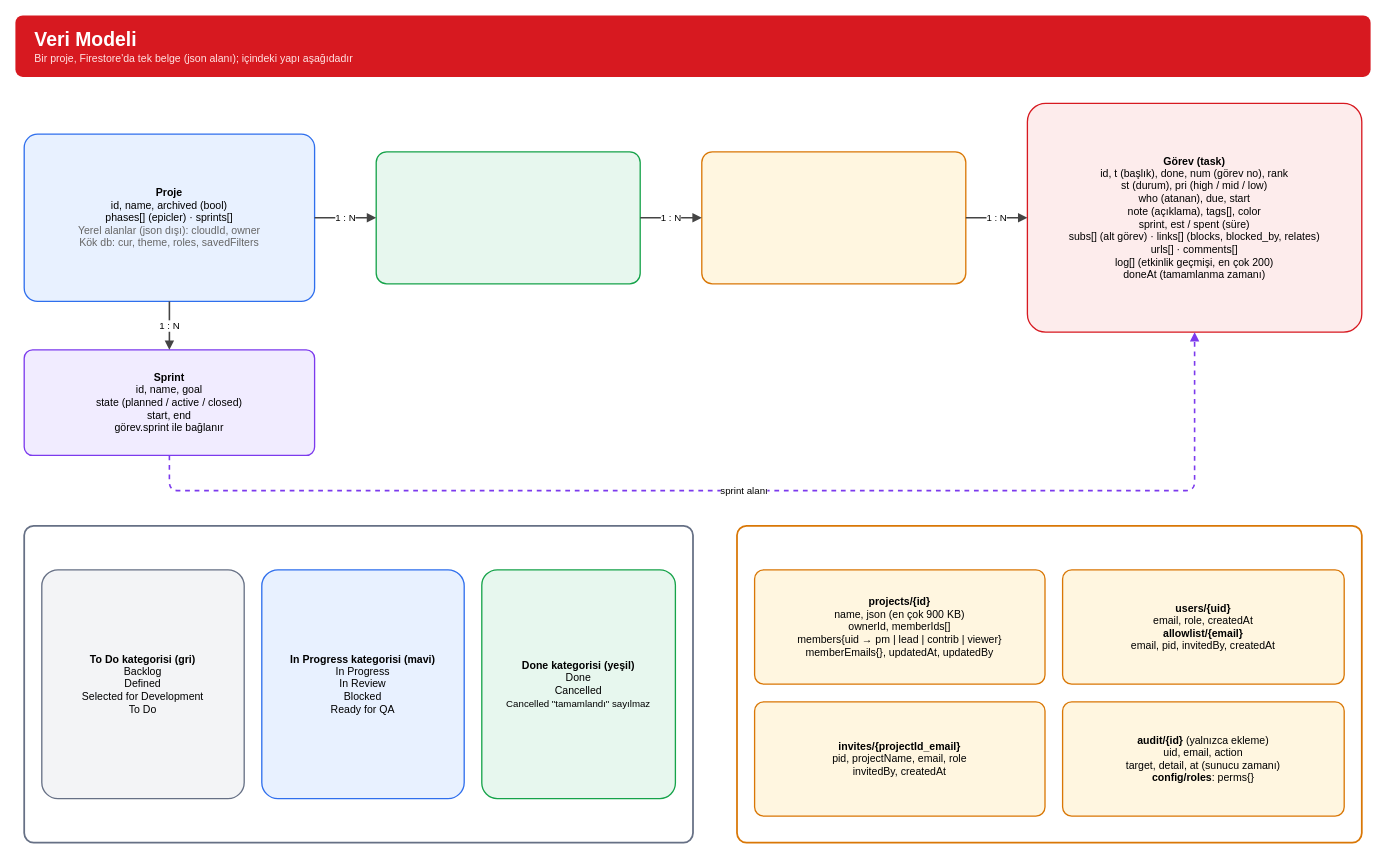
The diagram is 1385 pixels wide and 858 high, and some of its shapes have lost their labels. The shapes that lost their labels are listed below. From the top down, each one's box as (x1, y1, x2, y2) in pixels, then its label:
(375, 151, 640, 284): Epic (phase) id, name color, open subs[]
(701, 151, 966, 284): Story (sub) id, name open tasks[]
(23, 524, 693, 843): Durumlar ve kategoriler (Jira mantığı)
(736, 524, 1362, 843): Firestore belgeleri
